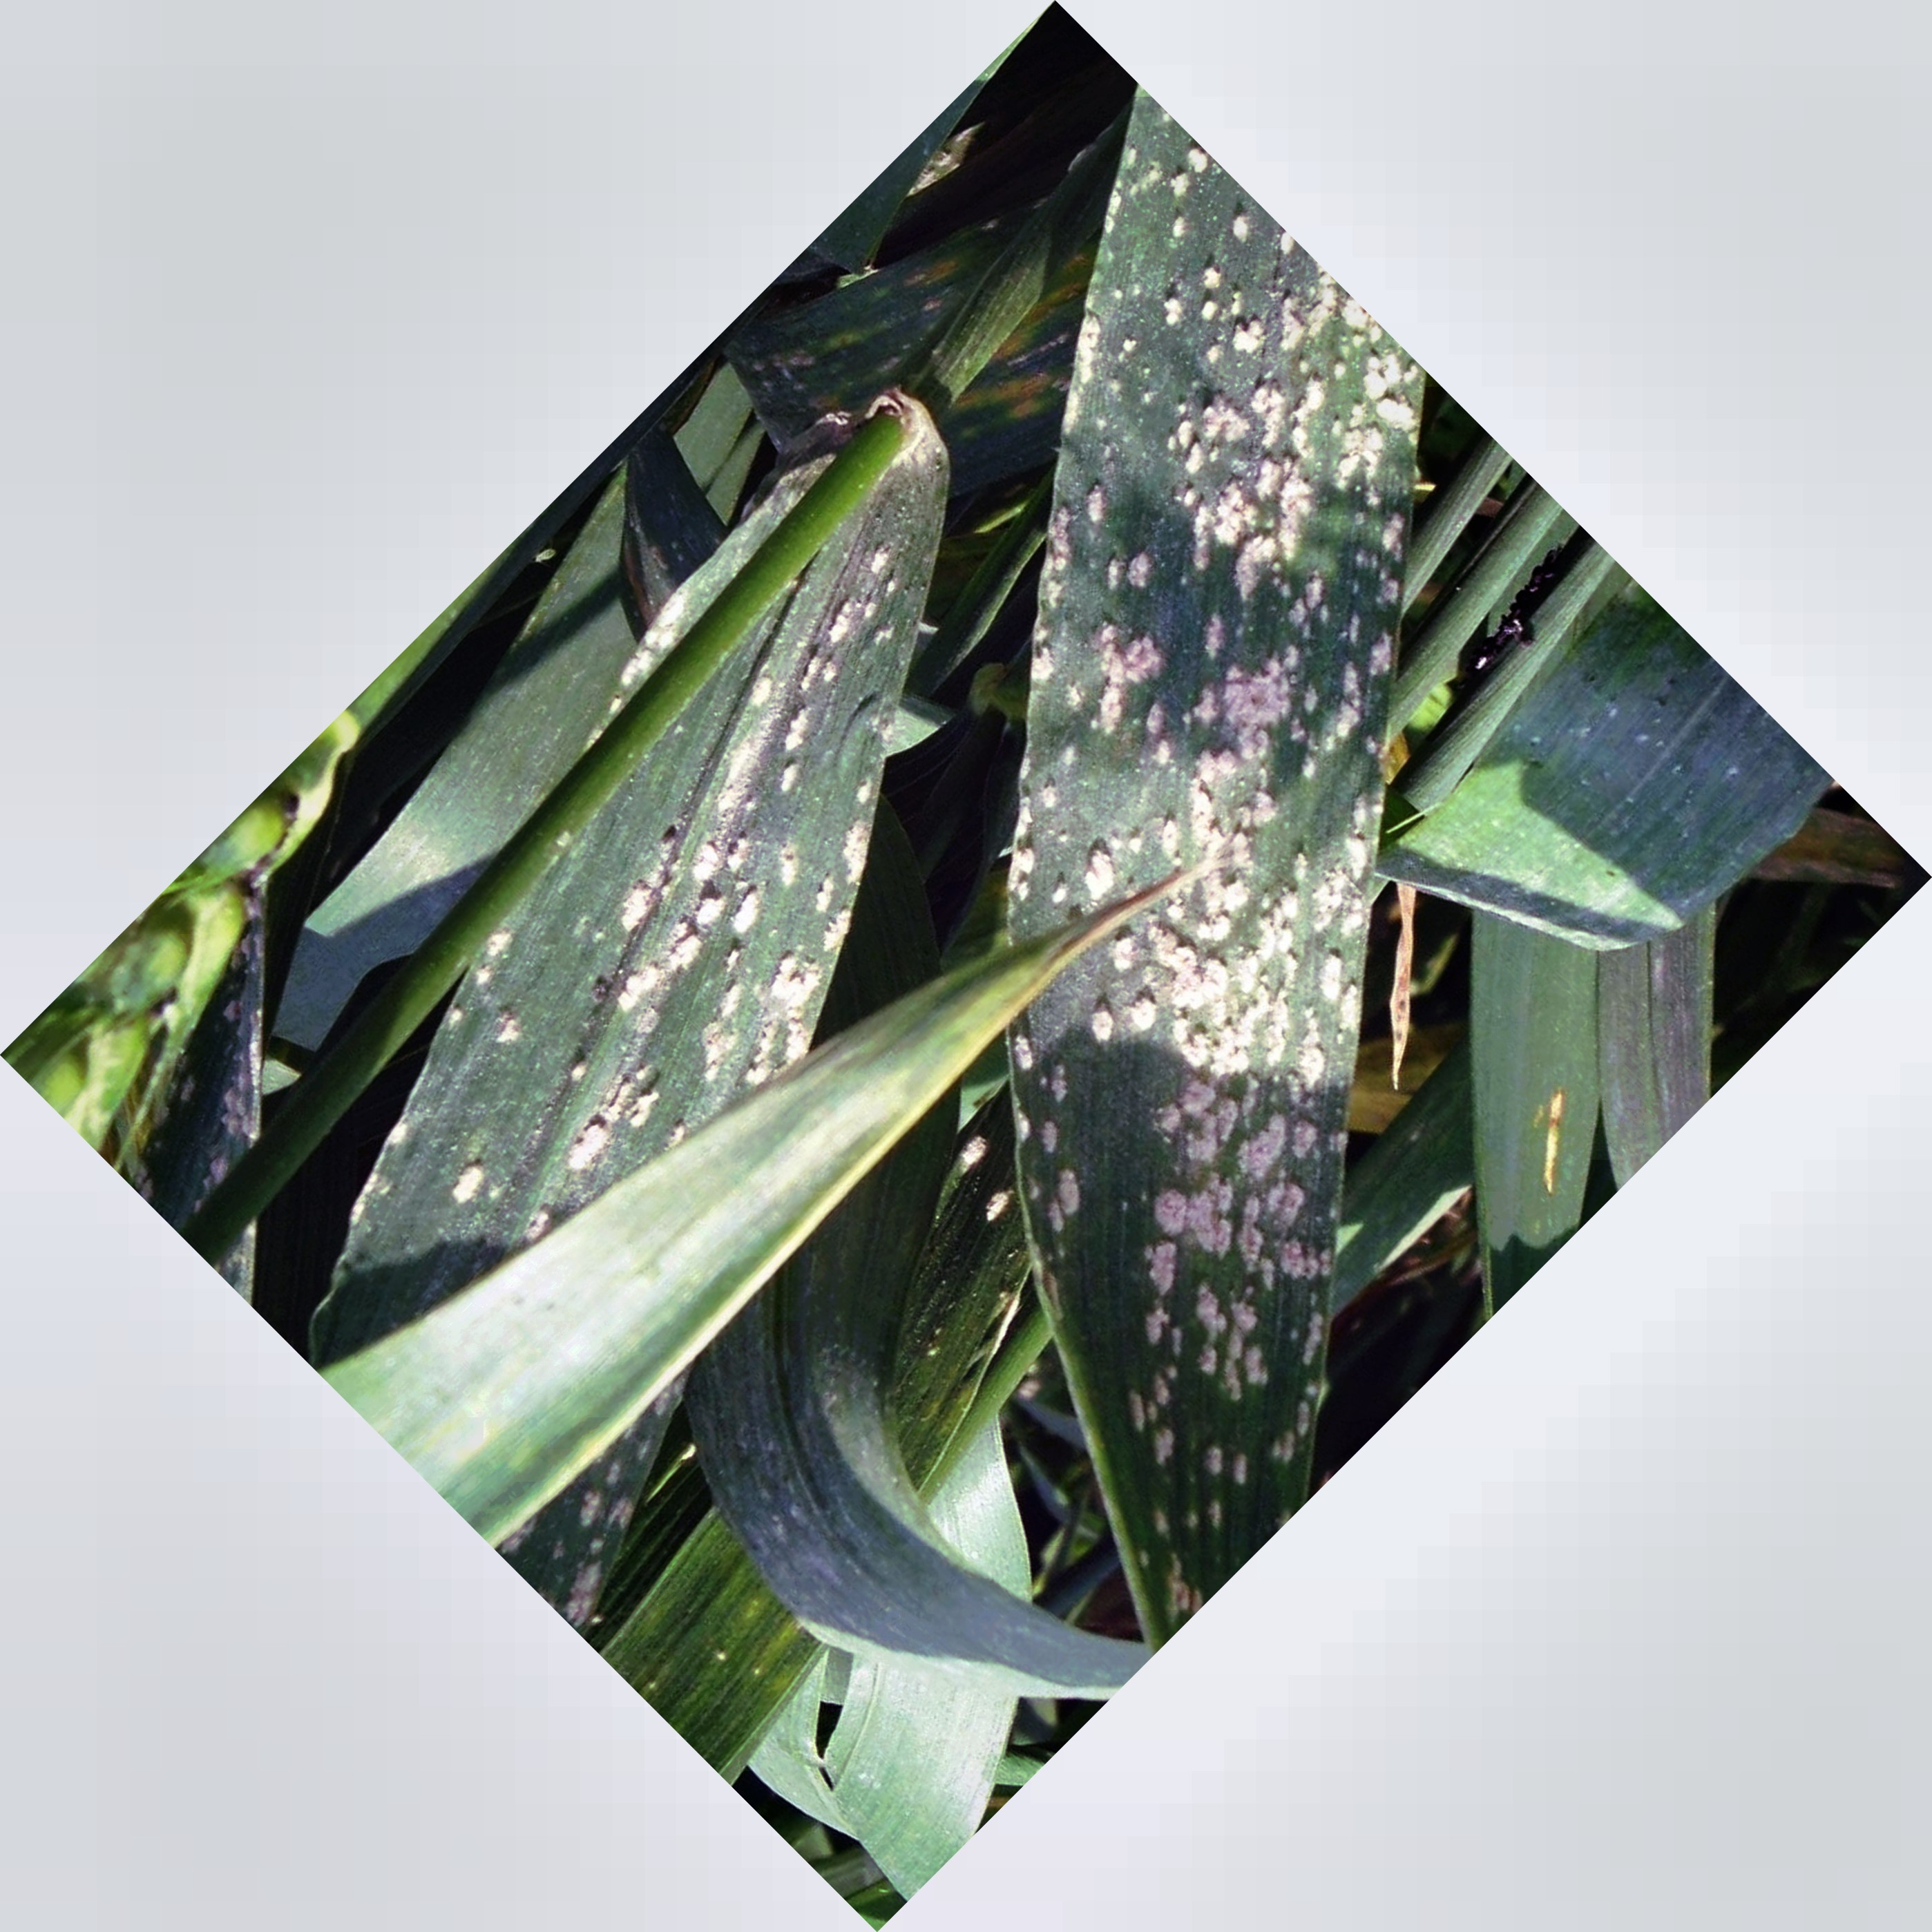Powdery Mildew: (1054, 260, 1438, 1456), (594, 602, 916, 1154)
